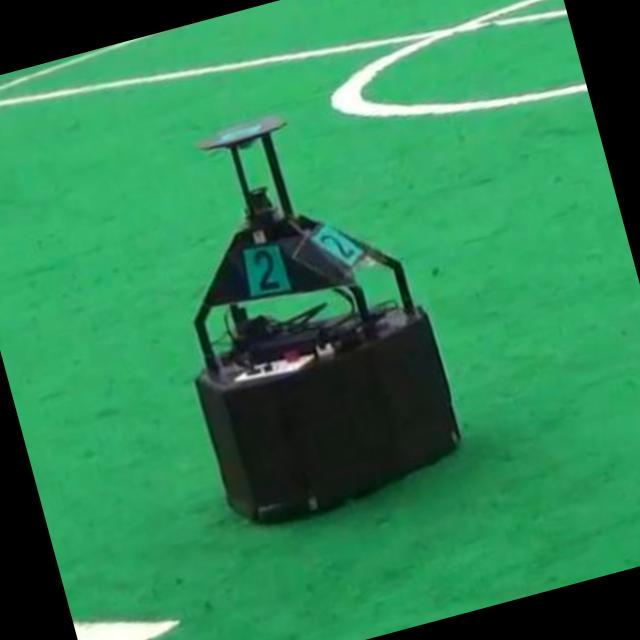robot: (194, 117, 459, 522)
